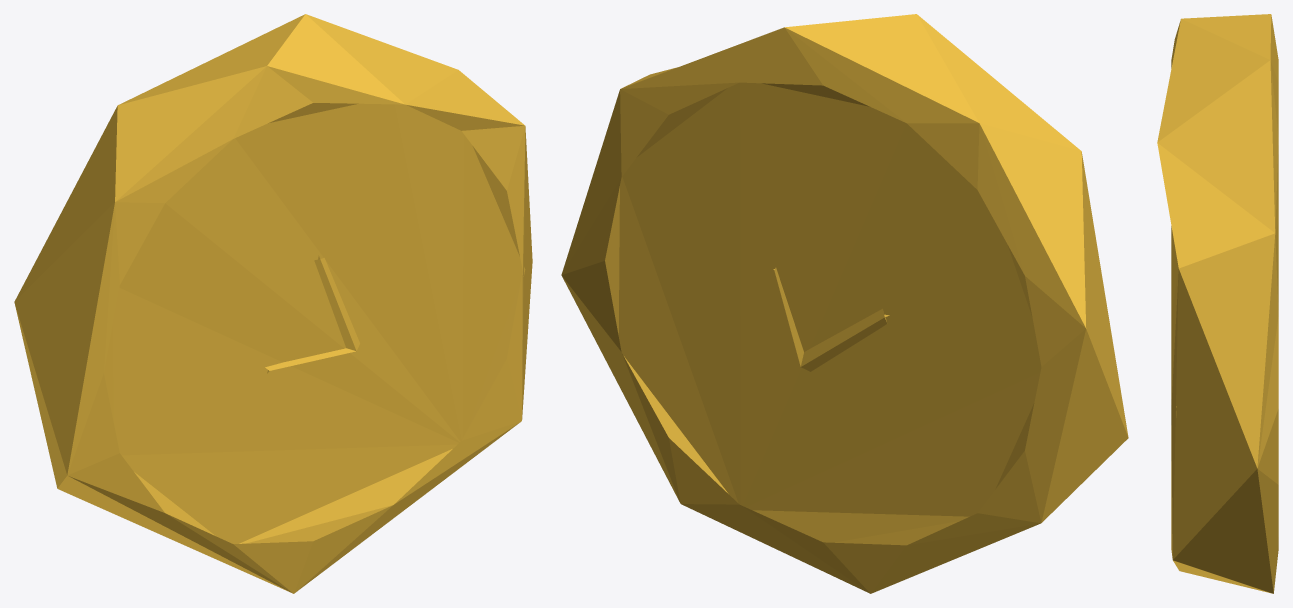
File: coin_lod1.obj
3 renders of one model, left to right at view 1: azimuth 30°, elevation 25°; view 2: azimuth 150°, elevation 25°; view 3: azimuth 270°, elevation 25°, orthographic. The views are drawn at different scales.
Visible parts, largest first — view 1: coin_lod1; view 2: coin_lod1; view 3: coin_lod1.
Part boxes in pixels (x1=…): coin_lod1: x1=14, y1=14, x2=532, y2=593; coin_lod1: x1=561, y1=14, x2=1128, y2=593; coin_lod1: x1=1157, y1=14, x2=1278, y2=593.
Size of the model in its own units: 0.5001 by 0.4991 by 0.1018.
